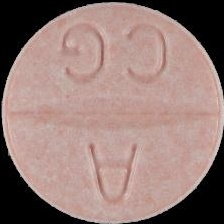0186-0008: (0, 0, 224, 224)
